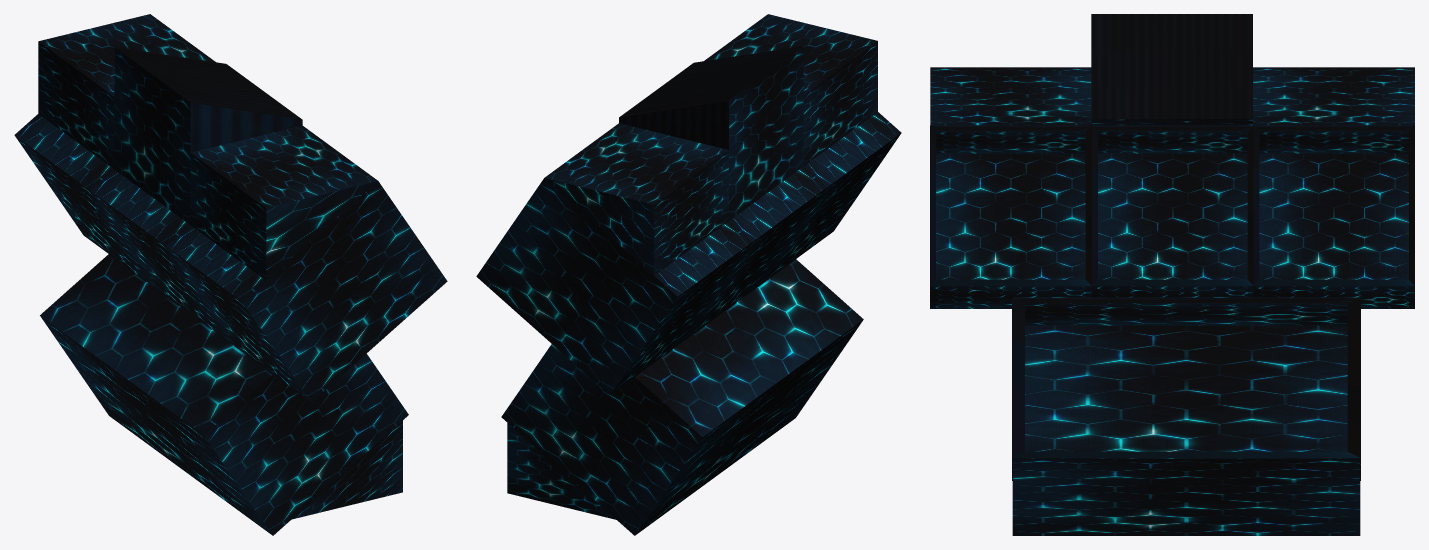
3 views of the same model, side by side, from view 1: azimuth 30°, elevation 25°; view 2: azimuth 150°, elevation 25°; view 3: azimuth 270°, elevation 25° (orthographic). The views are drawn at different scales.
Parts seen in each view (by area): view 1: Cubo.005, Cubo.003, Cubo.002, Cubo.006, Cubo.001, Cubo; view 2: Cubo.003, Cubo.005, Cubo.001, Cubo.002, Cubo.006, Cubo; view 3: Cubo.003, Cubo.005, Cubo.002, Cubo.001, Cubo.006, Cubo.
Part boxes in pixels (left/top/right/bottom): Cubo.005: left=38, top=14, right=377, bottom=280; Cubo.003: left=40, top=254, right=408, bottom=535; Cubo.002: left=166, top=181, right=447, bottom=402; Cubo.006: left=90, top=169, right=234, bottom=345; Cubo.001: left=14, top=114, right=158, bottom=290; Cubo: left=292, top=420, right=402, bottom=519; Cubo.003: left=501, top=259, right=863, bottom=535; Cubo.005: left=544, top=14, right=877, bottom=275; Cubo.001: left=476, top=178, right=751, bottom=395; Cubo.002: left=759, top=112, right=901, bottom=285; Cubo.006: left=685, top=167, right=826, bottom=339; Cubo: left=507, top=423, right=616, bottom=519; Cubo.003: left=1012, top=297, right=1360, bottom=480; Cubo.005: left=930, top=14, right=1414, bottom=125; Cubo.002: left=930, top=125, right=1091, bottom=308; Cubo.001: left=1253, top=125, right=1414, bottom=308; Cubo.006: left=1092, top=125, right=1253, bottom=297; Cubo: left=1012, top=459, right=1360, bottom=535.
Size of the model in its own units: 311 by 605 by 599.
